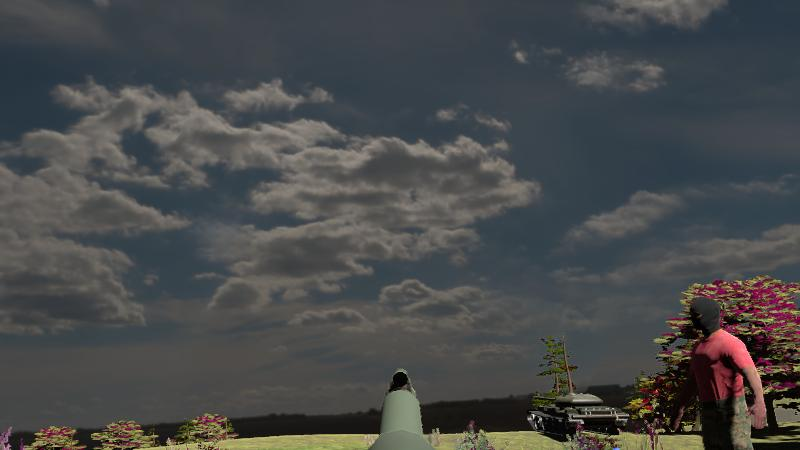Human: (680, 294, 772, 450)
Tank: (526, 391, 629, 440)
